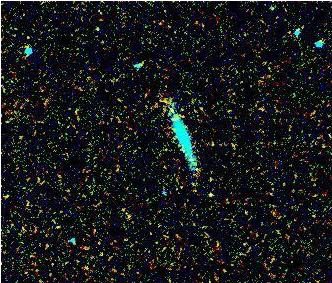star: (202, 180, 232, 210)
